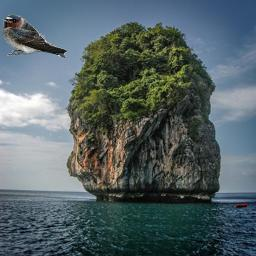Swallow: (0, 14, 68, 58)
